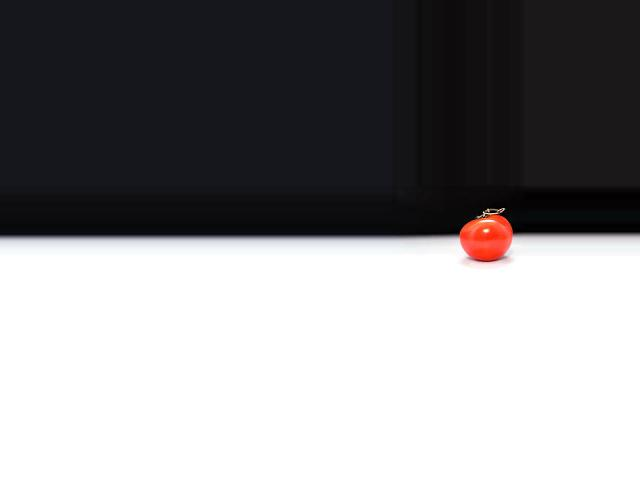tomato: (458, 214, 512, 261)
